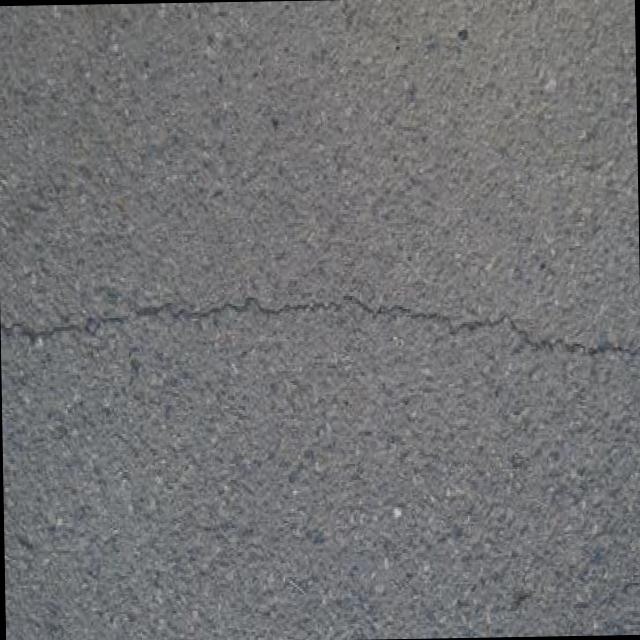Retak-Melintang: (1, 288, 640, 358)
